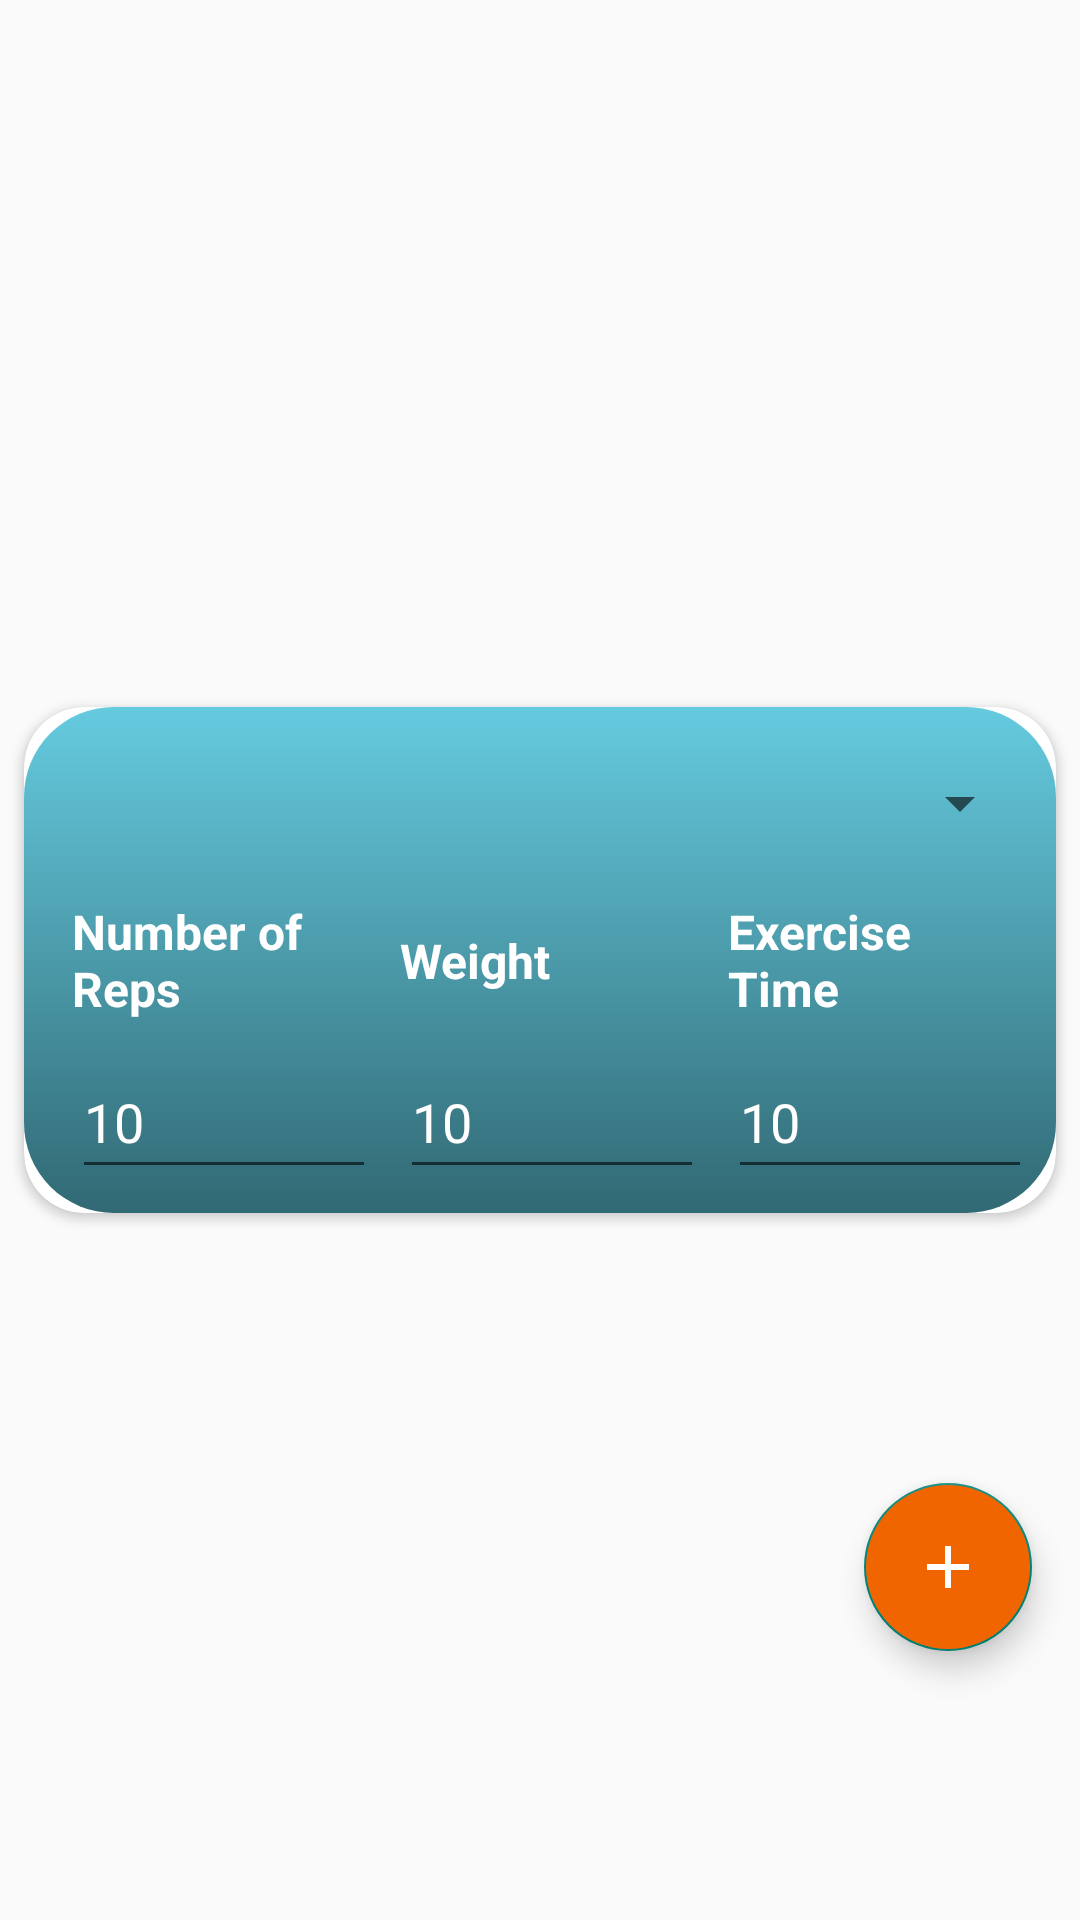

Point at icon controls on the screen. Image size 1080×1920, points as [x,y].
add: [948,1567]
